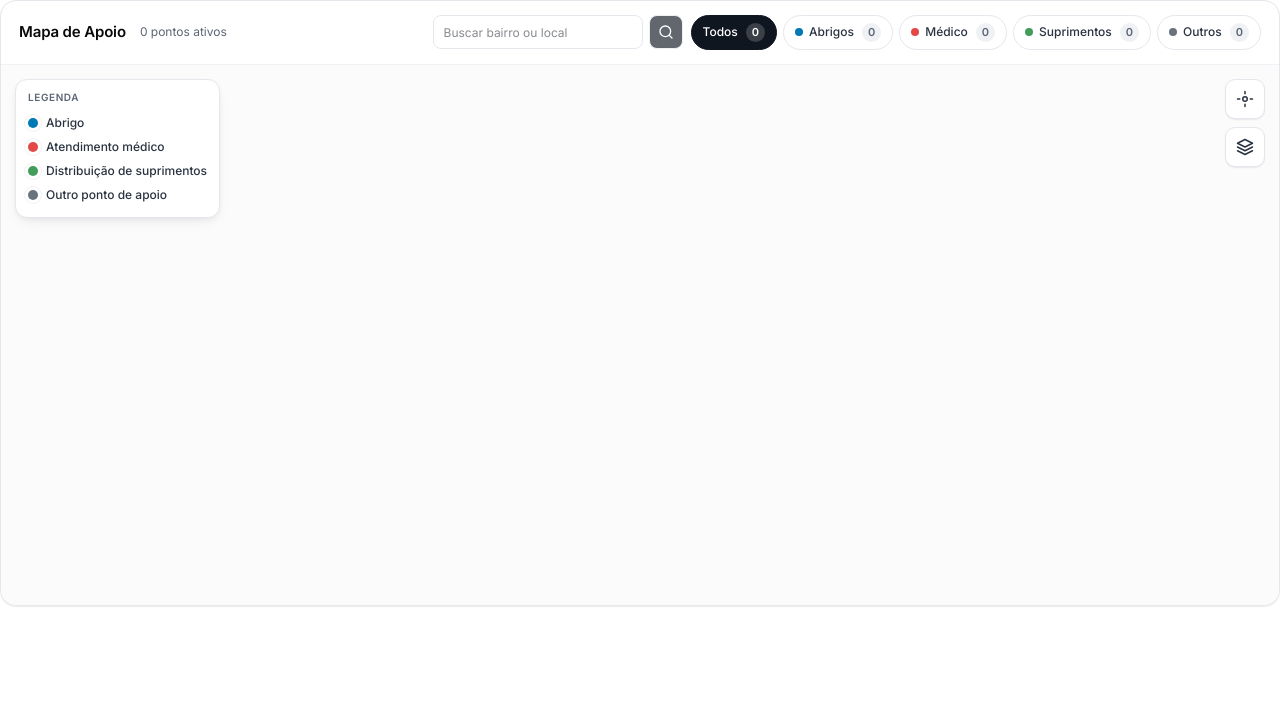
it: MapCard › mostra mensagem quando a busca nao encontra resultado
Type "Lugar inexistente" into the search field named "pesquisar local" at x=538, y=32, box [432,15,642,49]
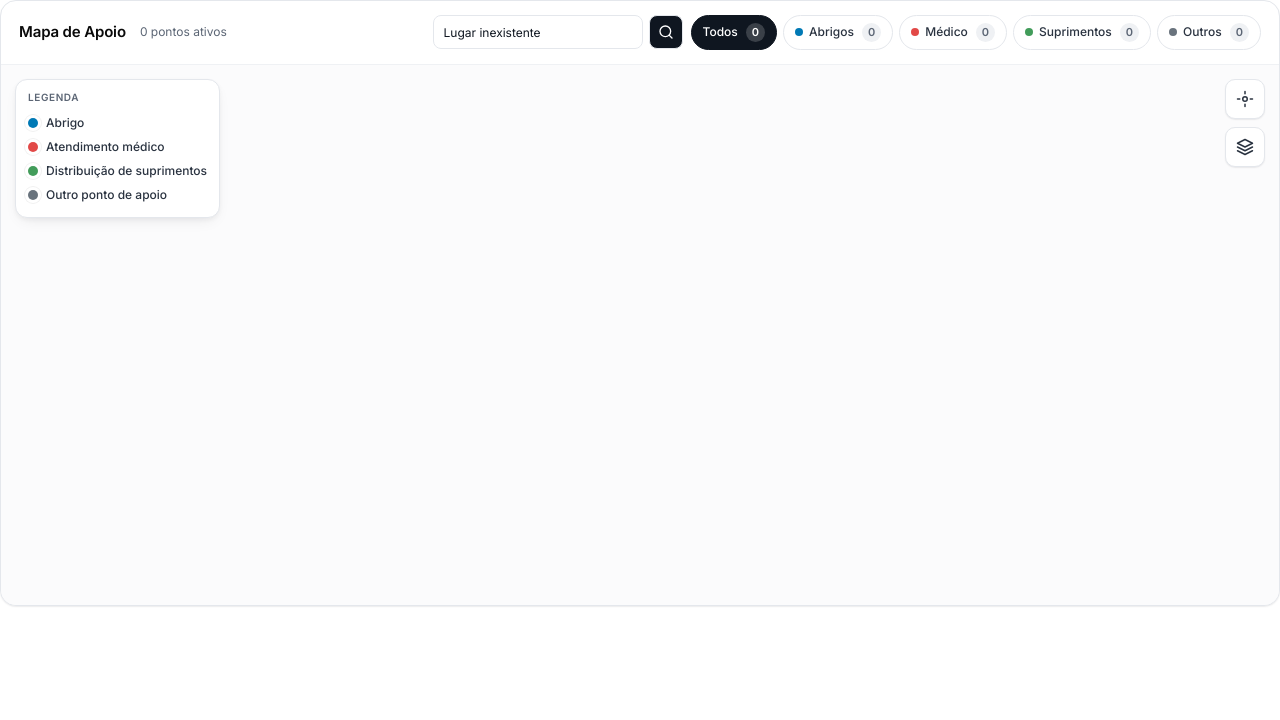
Click the button named "buscar local" at x=666, y=32, box [648,15,682,49]
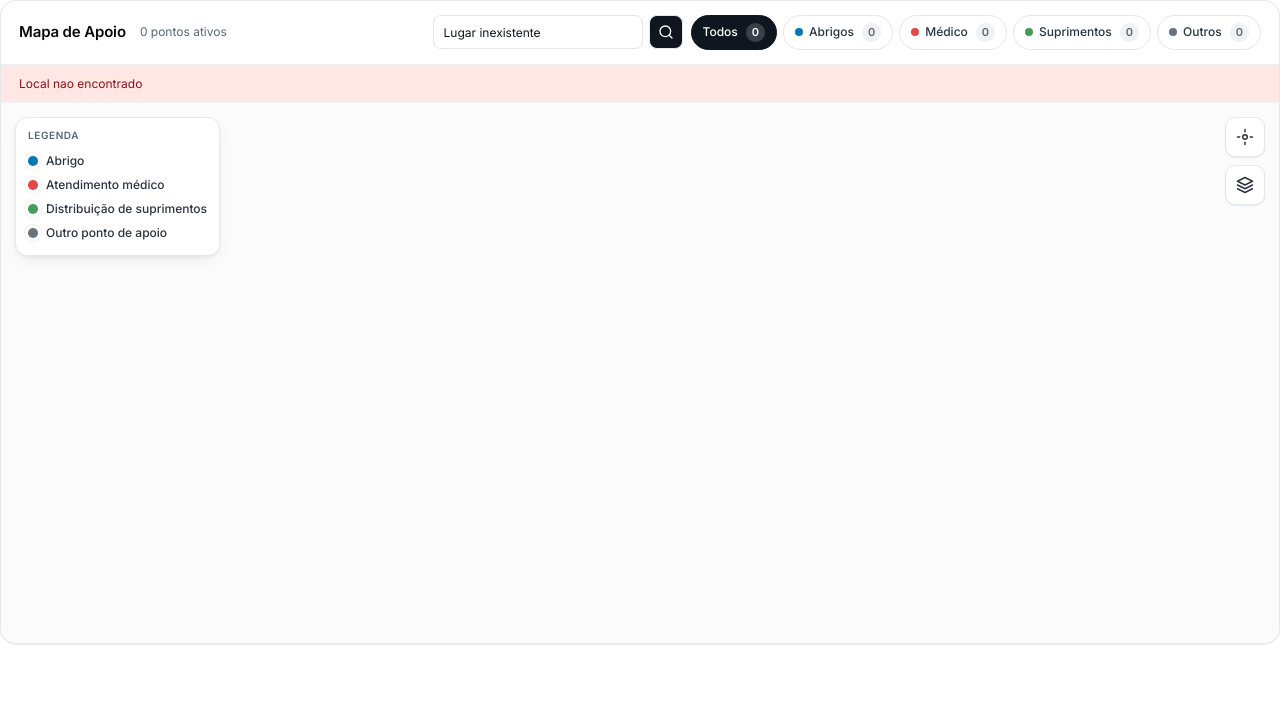
Check: the text "Local nao encontrado" is shown, box [1,64,1279,103]
